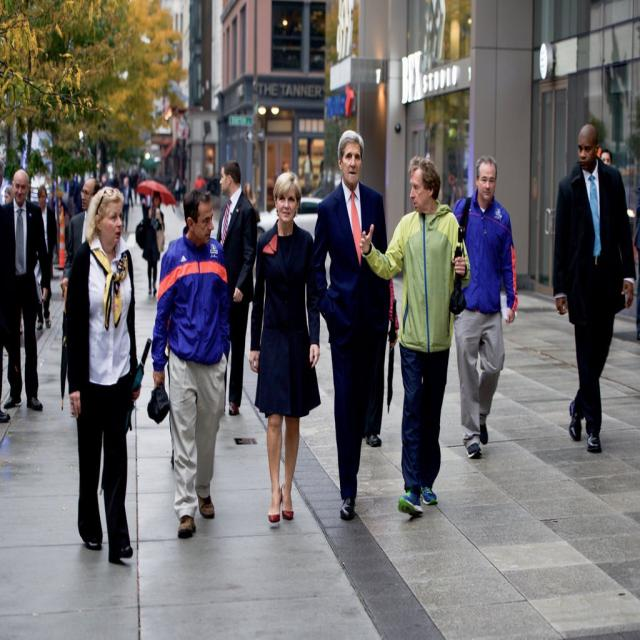body: (356, 151, 474, 521), (62, 183, 154, 566), (310, 122, 392, 526), (145, 184, 232, 542), (549, 116, 638, 458), (248, 168, 321, 532), (445, 150, 519, 462), (0, 167, 51, 414), (216, 158, 258, 418), (361, 269, 401, 453), (59, 178, 102, 297), (35, 184, 59, 332), (134, 187, 166, 298), (59, 166, 110, 228), (280, 150, 326, 202), (0, 211, 11, 426), (112, 165, 154, 211), (118, 176, 134, 233), (0, 154, 15, 210), (242, 180, 260, 222), (172, 167, 189, 203), (600, 140, 616, 172), (193, 172, 207, 190), (16, 319, 26, 339)
